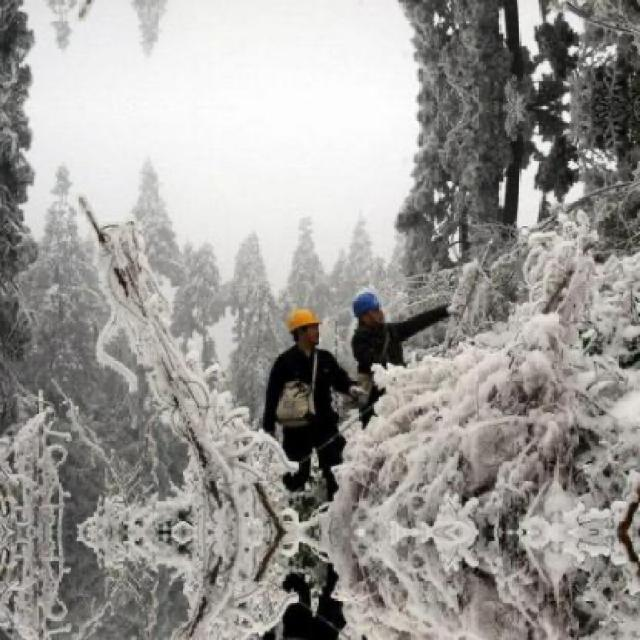helmet: (286, 305, 326, 349), (352, 289, 385, 329)
